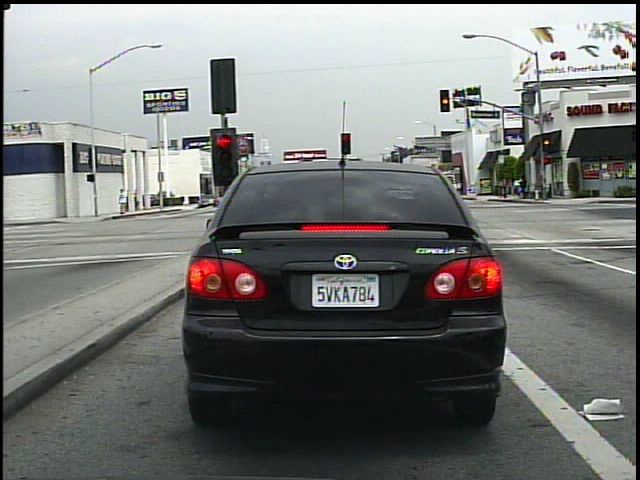person: (518, 173, 531, 201), (119, 187, 131, 216)
